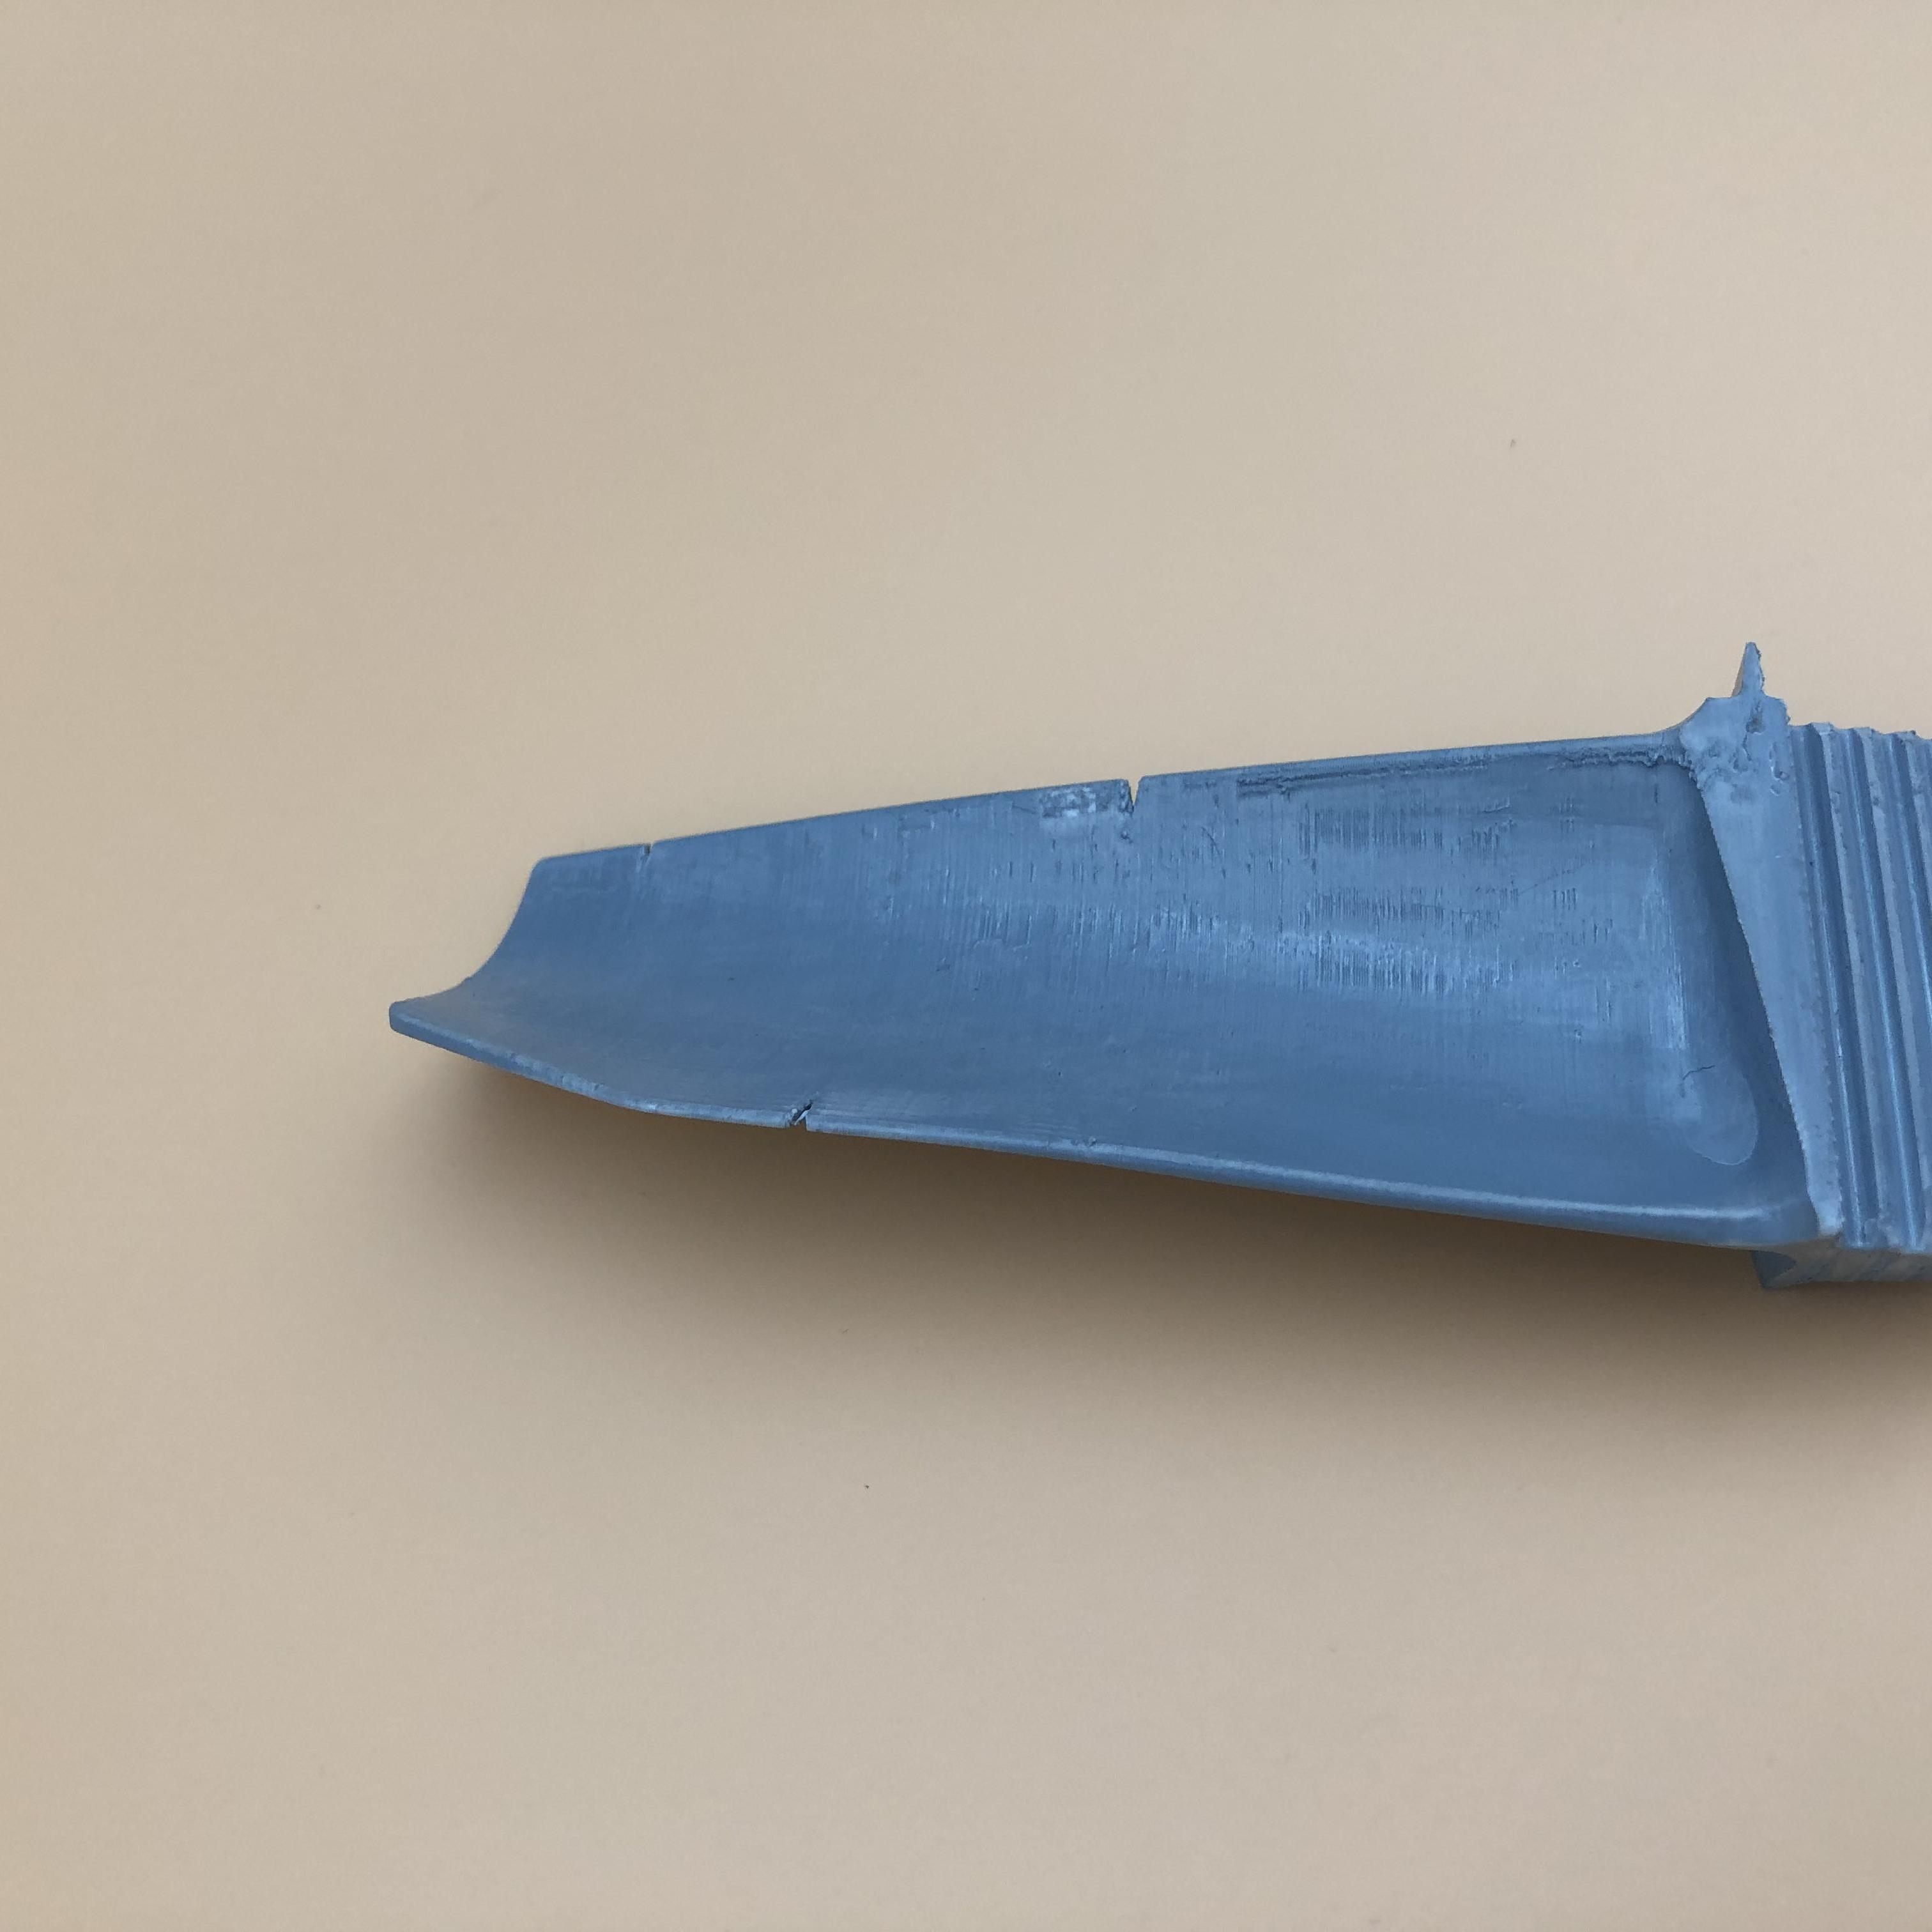groove: (1115, 770, 1177, 812), (780, 1095, 833, 1127), (639, 837, 672, 862)
